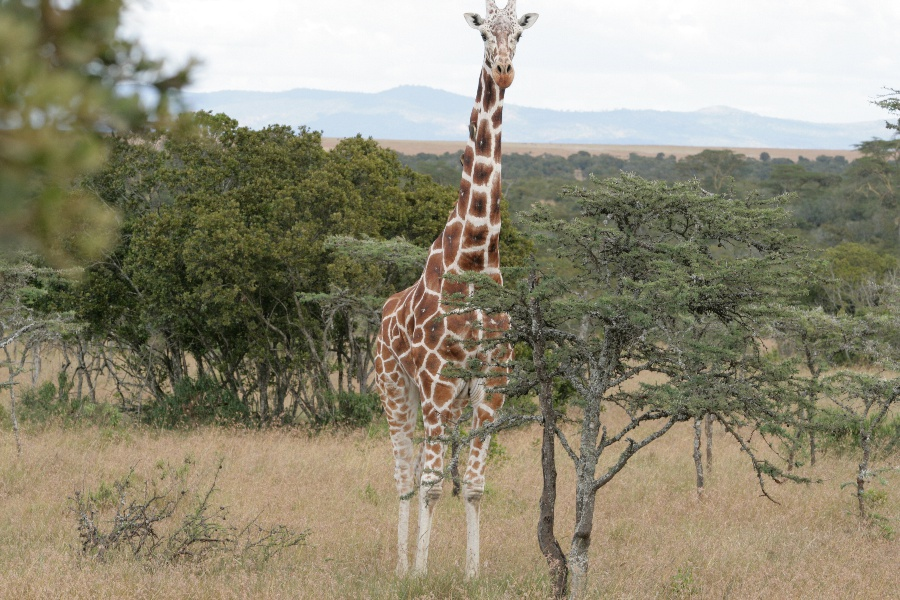giraffe: (363, 0, 542, 587)
